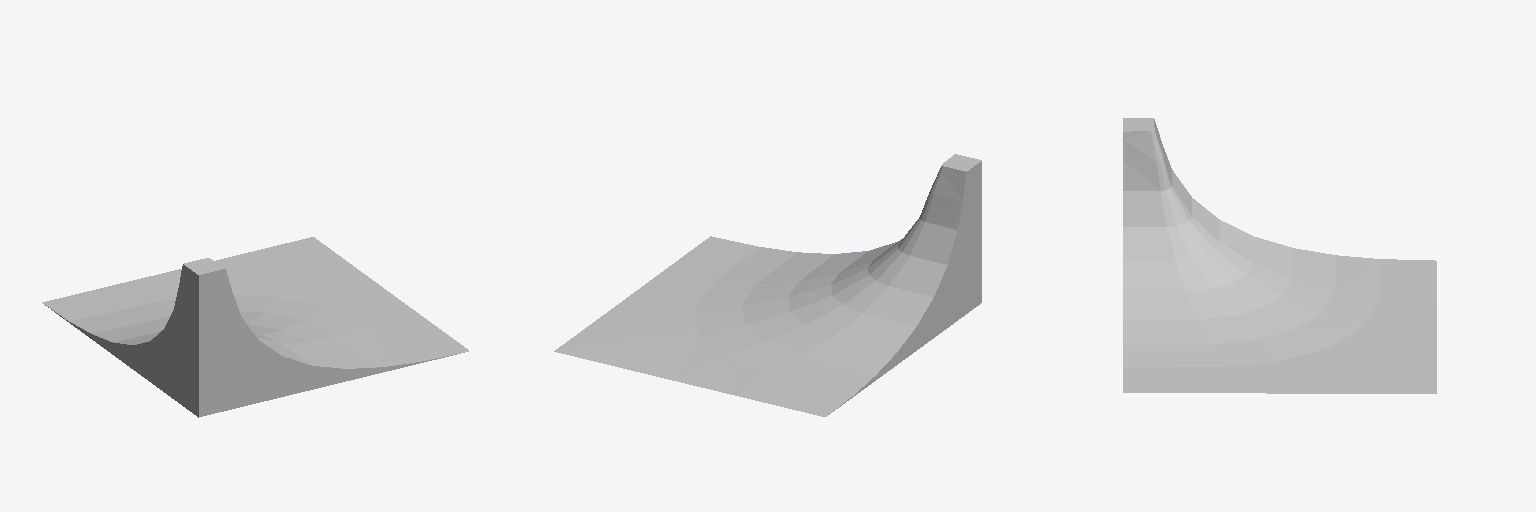
Rendered from Quater_SML_Corner.obj.
3 renders of one model, left to right at view 1: azimuth 30°, elevation 25°; view 2: azimuth 150°, elevation 25°; view 3: azimuth 270°, elevation 25°, orthographic.
Visible parts, largest first — view 1: Quater_SML_Corner; view 2: Quater_SML_Corner; view 3: Quater_SML_Corner.
Part boxes in pixels (x1,y1,x2,y2): Quater_SML_Corner: (42,237,468,417); Quater_SML_Corner: (554,154,981,416); Quater_SML_Corner: (1123,118,1436,393).
Bounding box in the file's own units: 10 × 5.01 × 10.